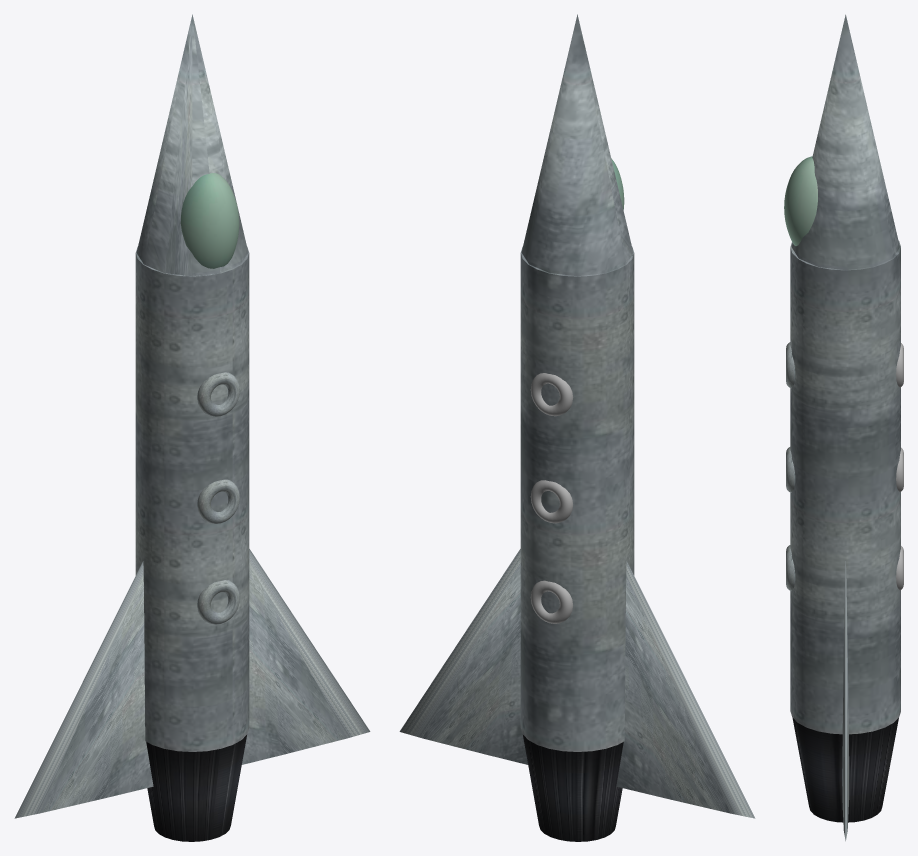
Rendered from rocket.obj.
The picture shows the model from 3 angles, left to right: view 1: azimuth 30°, elevation 25°; view 2: azimuth 150°, elevation 25°; view 3: azimuth 270°, elevation 25°; orthographic projection. The views are drawn at different scales.
Visible parts, largest first — view 1: Merged_Meshes, Cone1, Cylinder1, Sphere, Merged_Meshes1; view 2: Merged_Meshes, Cone1, Cylinder1, Torus3, Torus4, Torus5; view 3: Merged_Meshes, Cylinder1, Sphere, Cone1, Merged_Meshes1, Torus4, Torus3, Torus5.
Boxes of the visible parts, box(x1,y1,x2,y2) form: Merged_Meshes: box(135, 14, 249, 751); Cone1: box(14, 549, 370, 818); Cylinder1: box(146, 735, 246, 841); Sphere: box(180, 173, 239, 268); Merged_Meshes1: box(197, 372, 239, 624); Merged_Meshes: box(520, 14, 634, 751); Cone1: box(399, 549, 755, 818); Cylinder1: box(523, 735, 623, 841); Torus3: box(530, 373, 573, 416); Torus4: box(530, 480, 572, 523); Torus5: box(530, 580, 572, 623); Merged_Meshes: box(790, 14, 900, 734); Cylinder1: box(792, 717, 898, 822); Sphere: box(784, 156, 817, 245); Cone1: box(842, 561, 849, 841); Merged_Meshes1: box(786, 342, 795, 590); Torus4: box(896, 447, 903, 491); Torus3: box(896, 343, 903, 387); Torus5: box(896, 546, 903, 590).
Bounding box in the file's own units: 3.62 × 7.89 × 1.08.
Materials: 4 (3 with a texture image).
